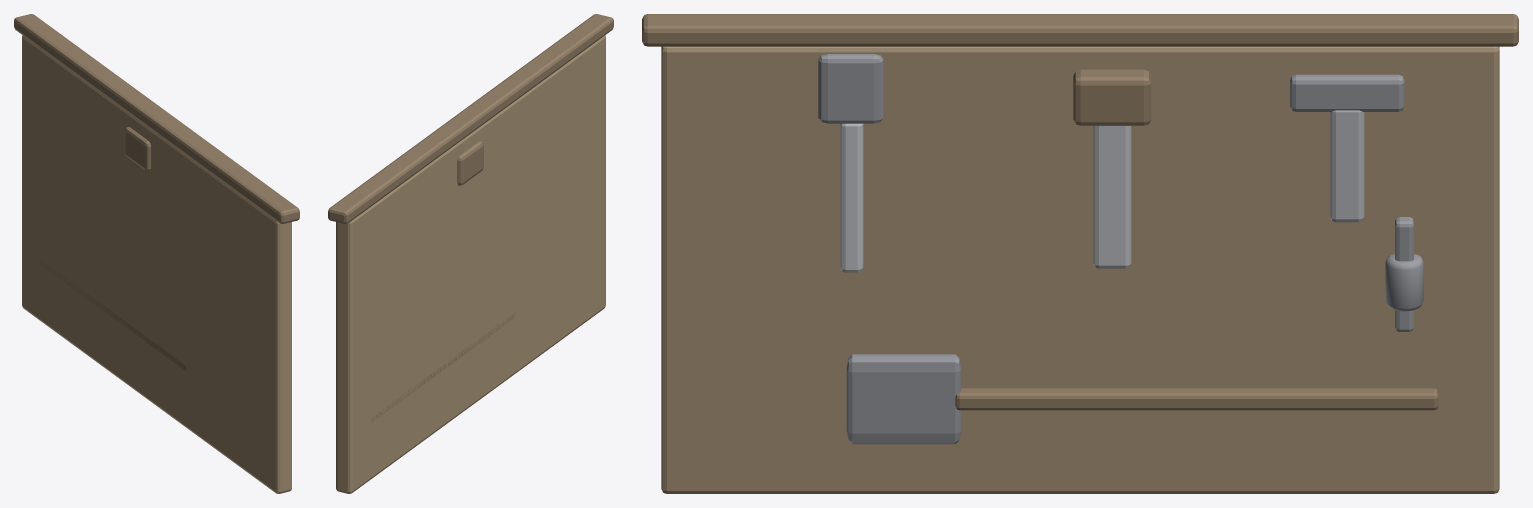
File: доска инструментов.glb
3 views of the same model, side by side, from view 1: azimuth 30°, elevation 25°; view 2: azimuth 150°, elevation 25°; view 3: azimuth 270°, elevation 25° (orthographic). The views are drawn at different scales.
Visible parts, largest first — view 1: доска_инструментов; view 2: доска_инструментов; view 3: доска_инструментов.
Part boxes in pixels (bbox=[...]): доска_инструментов: bbox=[14, 14, 299, 493]; доска_инструментов: bbox=[328, 14, 613, 493]; доска_инструментов: bbox=[642, 14, 1518, 493].
Bounding box in the file's own units: 0.1675 × 1.36 × 2.3.
